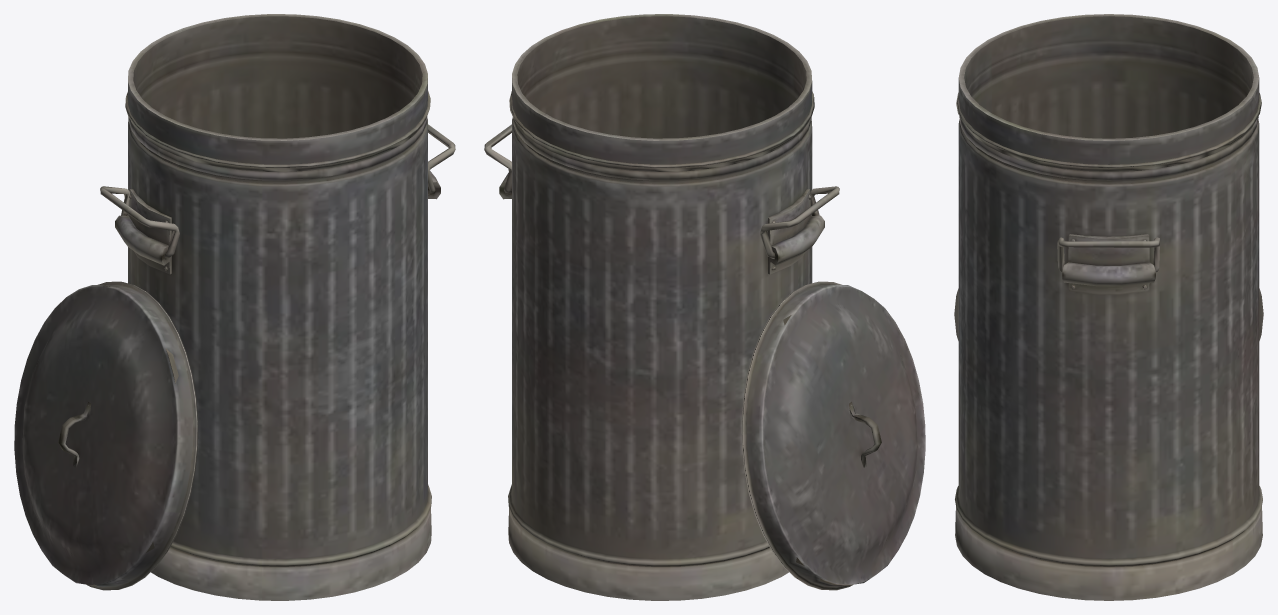
Rendered from trash_can.glb.
3 renders of one model, left to right at view 1: azimuth 30°, elevation 25°; view 2: azimuth 150°, elevation 25°; view 3: azimuth 270°, elevation 25°, orthographic.
Visible parts, largest first — view 1: metal_trash_can_handle_left; view 2: metal_trash_can_handle_left; view 3: metal_trash_can_handle_left.
Part boxes in pixels (x1=…): metal_trash_can_handle_left: x1=14, y1=14, x2=455, y2=600; metal_trash_can_handle_left: x1=484, y1=14, x2=925, y2=600; metal_trash_can_handle_left: x1=954, y1=14, x2=1263, y2=600.
Size of the model in its own units: 0.7773 by 0.9062 by 0.5543.
Materials: 1 (1 with a texture image).
